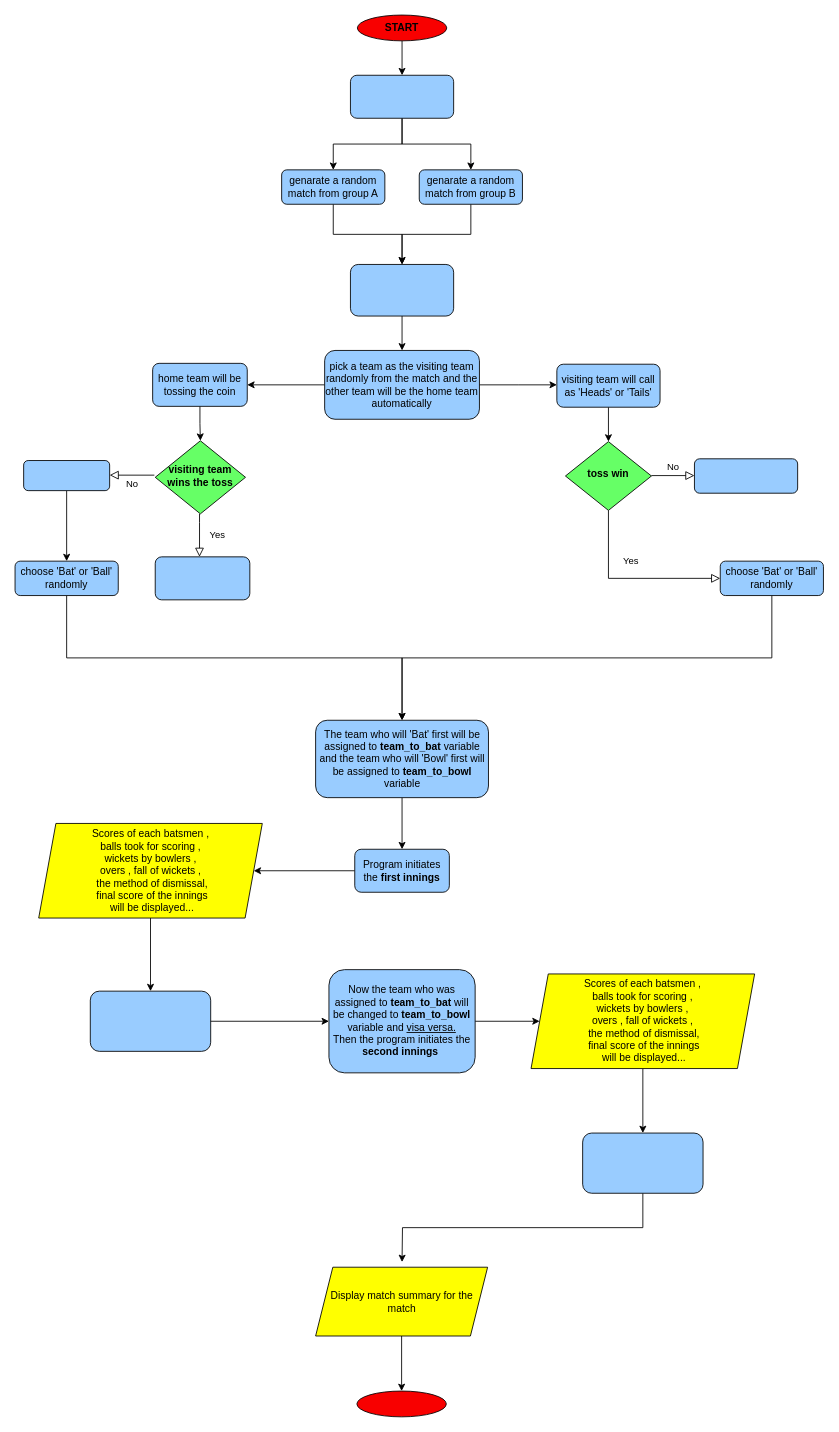
Some shapes in this 839 by 1432 pixel diagram are drawn without their labels. The shapes that lost their labels are listed below. From the top down, each one's centre as x and y in pixels, then its label:
At (x=402, y=96): "Assigning the 4 teams to groups A and B".
At (x=402, y=290): "pick a match out of the 2 randomly generated matches above".
At (x=66, y=475): "home team wins the toss".
At (x=746, y=475): "given the opposite of what home team chose".
At (x=202, y=578): "given the opposite of what visiting team chose".
At (x=150, y=1020): "First innings data will be extracted and written into an excel file".
At (x=642, y=1162): "Second innings data will be extracted and written into an excel file".
At (x=401, y=1403): "END".
